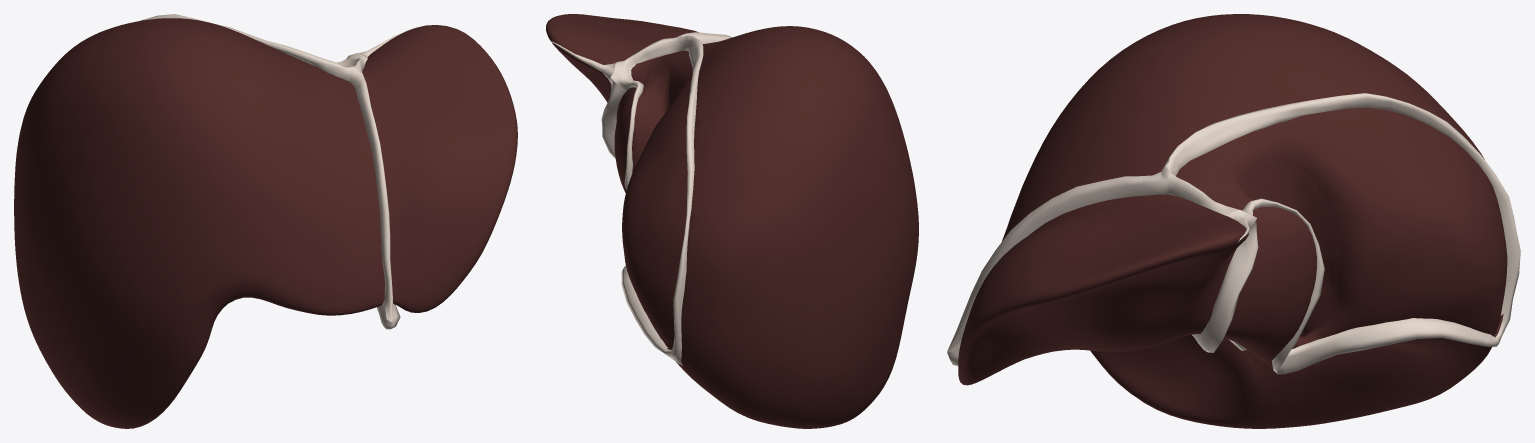
File: liver.glb
3 views of the same model, side by side, from view 1: azimuth 30°, elevation 25°; view 2: azimuth 150°, elevation 25°; view 3: azimuth 270°, elevation 25° (orthographic). The views are drawn at different scales.
Parts seen in each view (by area): view 1: VH_M_liver_capsule, VH_M_falciform_ligament, VH_M_coronary_ligament_of_liver; view 2: VH_M_liver_capsule, VH_M_bare_area_of_liver, VH_M_coronary_ligament_of_liver, VH_M_caudate_lobe_of_liver, VH_M_ligamentum_venosum, VH_M_right_posterosuperior_segment, VH_M_diaphragmatic_surface, VH_M_triangular_ligament_of_liver, VH_M_right_posteroinferior_segment; view 3: VH_M_liver_capsule, VH_M_bare_area_of_liver, VH_M_coronary_ligament_of_liver, VH_M_falciform_ligament, VH_M_caudate_lobe_of_liver, VH_M_diaphragmatic_surface, VH_M_ligamentum_venosum, VH_M_right_posterosuperior_segment.
Part boxes in pixels (left/top/right/bottom): VH_M_liver_capsule: left=14, top=18, right=517, bottom=428; VH_M_falciform_ligament: left=349, top=70, right=393, bottom=321; VH_M_coronary_ligament_of_liver: left=140, top=14, right=367, bottom=81; VH_M_liver_capsule: left=546, top=14, right=918, bottom=428; VH_M_bare_area_of_liver: left=622, top=50, right=692, bottom=347; VH_M_coronary_ligament_of_liver: left=610, top=35, right=703, bottom=365; VH_M_caudate_lobe_of_liver: left=632, top=54, right=688, bottom=164; VH_M_ligamentum_venosum: left=601, top=78, right=626, bottom=159; VH_M_right_posterosuperior_segment: left=627, top=118, right=687, bottom=311; VH_M_diaphragmatic_surface: left=632, top=73, right=680, bottom=317; VH_M_triangular_ligament_of_liver: left=551, top=41, right=616, bottom=82; VH_M_right_posteroinferior_segment: left=647, top=311, right=674, bottom=345; VH_M_liver_capsule: left=958, top=14, right=1503, bottom=428; VH_M_bare_area_of_liver: left=1176, top=107, right=1507, bottom=344; VH_M_coronary_ligament_of_liver: left=1161, top=93, right=1520, bottom=374; VH_M_falciform_ligament: left=947, top=172, right=1165, bottom=351; VH_M_caudate_lobe_of_liver: left=1190, top=151, right=1341, bottom=348; VH_M_diaphragmatic_surface: left=1225, top=156, right=1495, bottom=346; VH_M_ligamentum_venosum: left=1192, top=219, right=1258, bottom=352; VH_M_right_posterosuperior_segment: left=1339, top=107, right=1495, bottom=314.
Size of the model in its own units: 0.1914 by 0.1746 by 0.2018.
